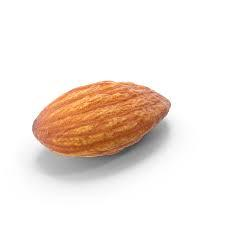non-mango: (31, 79, 171, 157)
